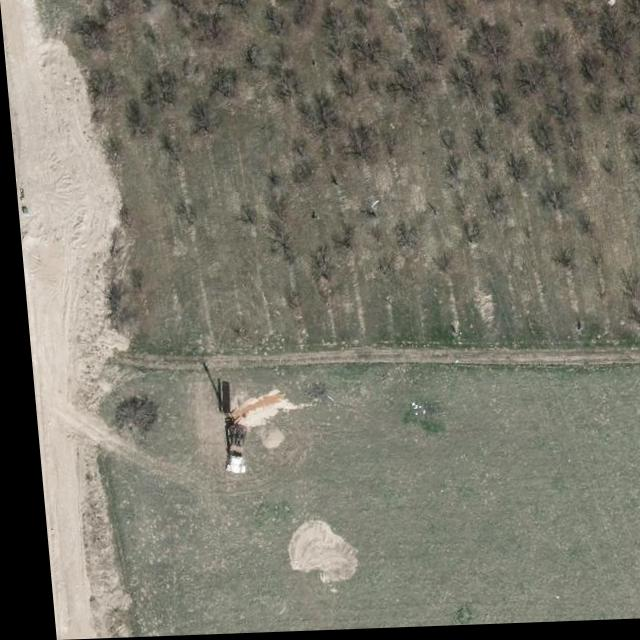vehicle: (215, 426, 242, 477)
